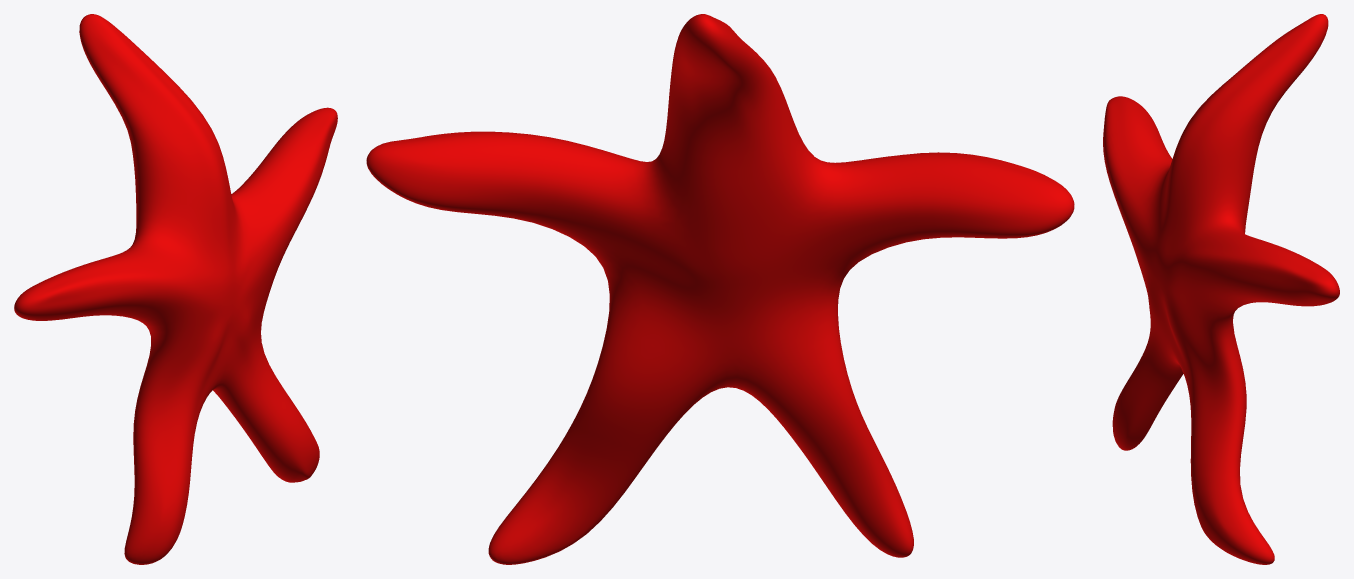
3 renders of one model, left to right at view 1: azimuth 30°, elevation 25°; view 2: azimuth 150°, elevation 25°; view 3: azimuth 270°, elevation 25°, orthographic. The views are drawn at different scales.
Parts seen in each view (by area): view 1: face_starsfish; view 2: face_starsfish; view 3: face_starsfish.
Boxes of the visible parts, box(x1,y1,x2,y2) form: face_starsfish: box(14, 14, 337, 564); face_starsfish: box(366, 14, 1074, 564); face_starsfish: box(1103, 14, 1339, 564).
Bounding box in the file's own units: 52.84 × 26.15 × 56.65.
